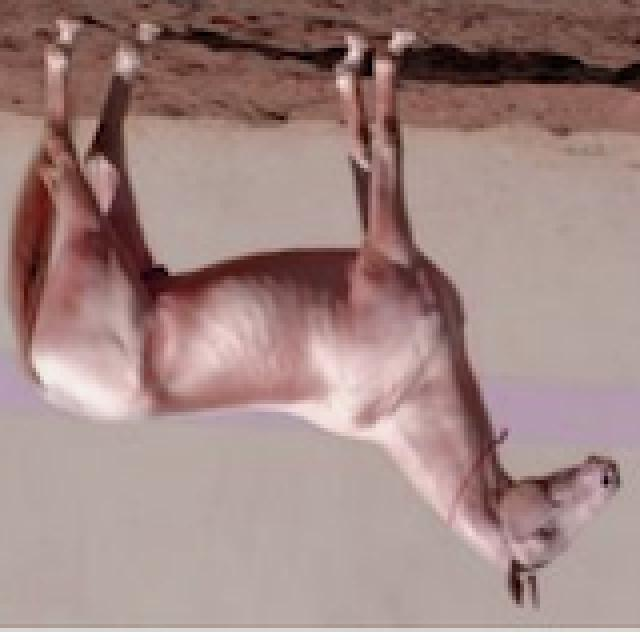Horse: (0, 16, 624, 612)
